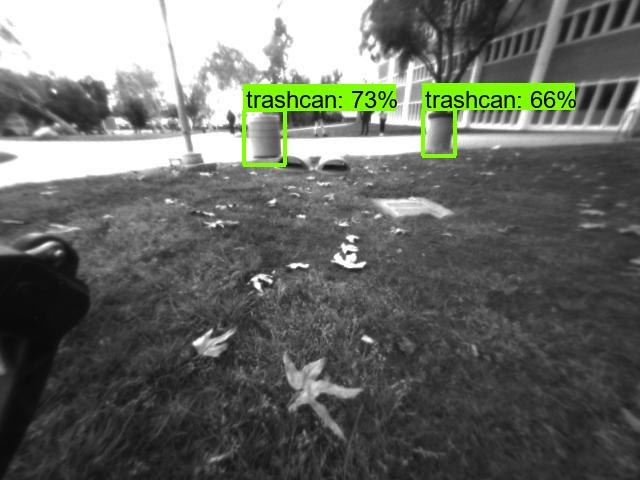trashcan: (245, 114, 283, 165), (424, 106, 456, 156)
